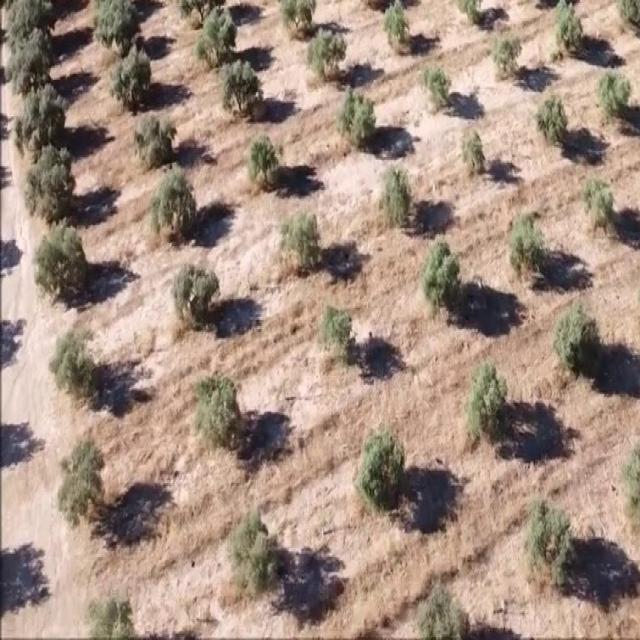trees: (50, 422, 110, 529), (527, 494, 582, 594), (28, 221, 94, 304), (145, 164, 207, 246), (18, 146, 83, 224), (353, 418, 408, 508), (194, 370, 246, 457), (550, 286, 602, 372), (465, 356, 513, 449), (417, 224, 465, 315), (170, 256, 226, 334), (236, 510, 286, 596), (11, 82, 72, 147), (417, 574, 472, 638), (508, 208, 552, 288), (218, 50, 268, 118), (5, 32, 58, 94), (374, 158, 416, 236), (276, 208, 324, 276), (110, 46, 160, 111), (129, 110, 183, 170), (308, 19, 356, 86), (337, 85, 381, 156), (591, 62, 634, 134), (194, 10, 241, 74), (95, 0, 149, 52), (79, 595, 141, 640), (487, 18, 526, 84), (245, 130, 284, 193), (533, 91, 573, 151), (317, 302, 354, 364), (552, 0, 589, 58), (377, 0, 415, 56), (419, 60, 456, 113), (8, 0, 61, 35), (274, 0, 321, 35), (458, 128, 487, 177), (615, 0, 640, 37)
